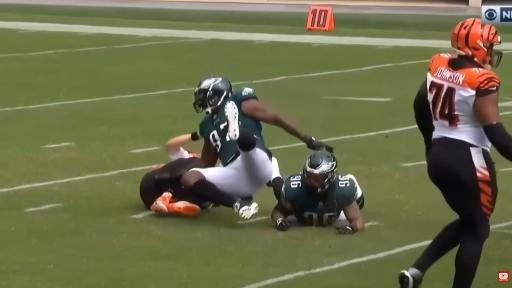Helmet: (451, 19, 502, 67), (194, 76, 232, 114), (303, 152, 337, 193)
Jersey: (427, 54, 499, 150), (199, 88, 269, 166), (282, 173, 357, 226)
Player: (399, 19, 511, 287), (182, 77, 332, 218), (272, 152, 364, 234), (140, 132, 211, 216), (140, 156, 209, 216)
